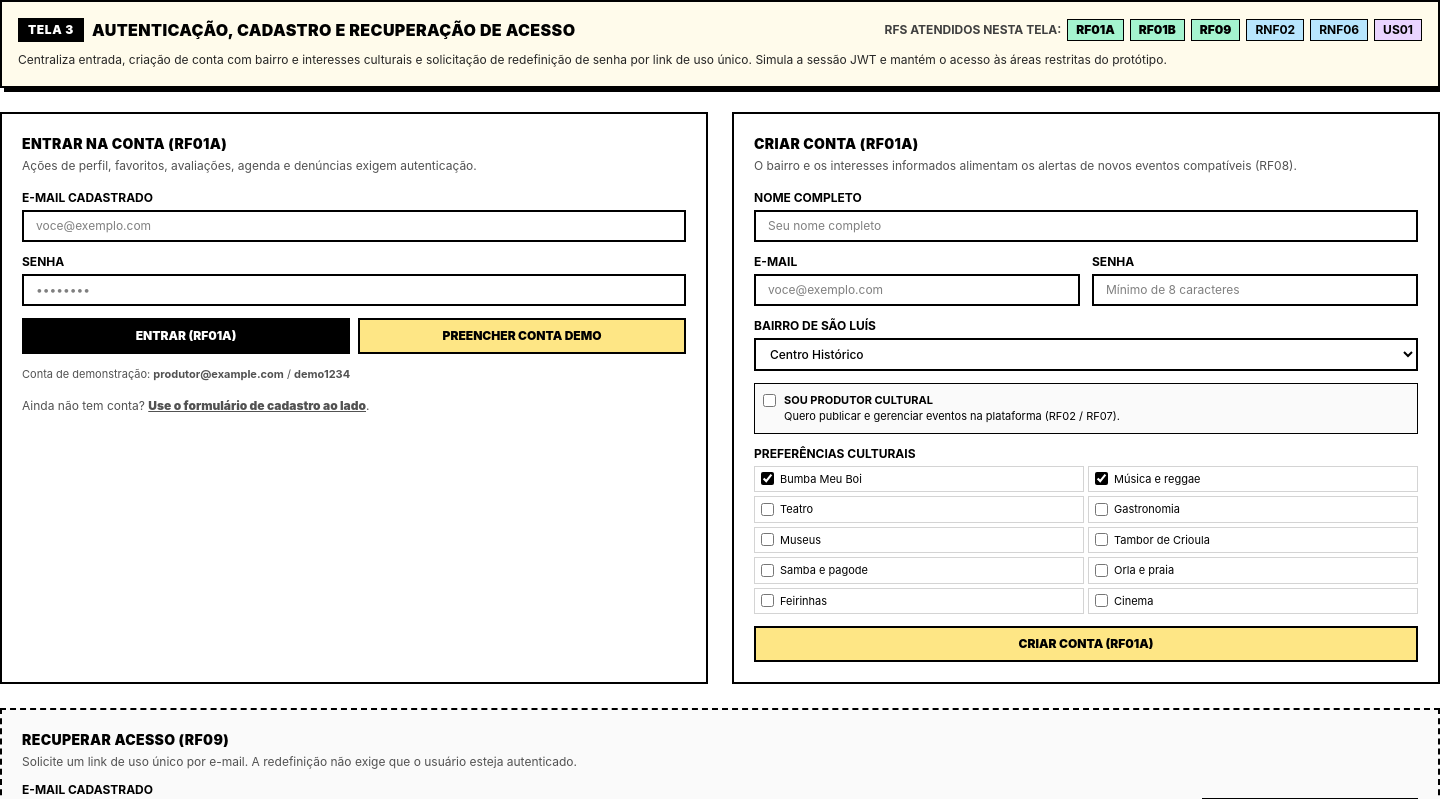
Test: LoginPage › preenche a conta de demonstração
This screenshot has width=1440, height=799.
What coordinates should you click on to do the following:
click the button "Preencher conta demo"
I would click on:
 (522, 336)
Its box is [358,318,686,354].
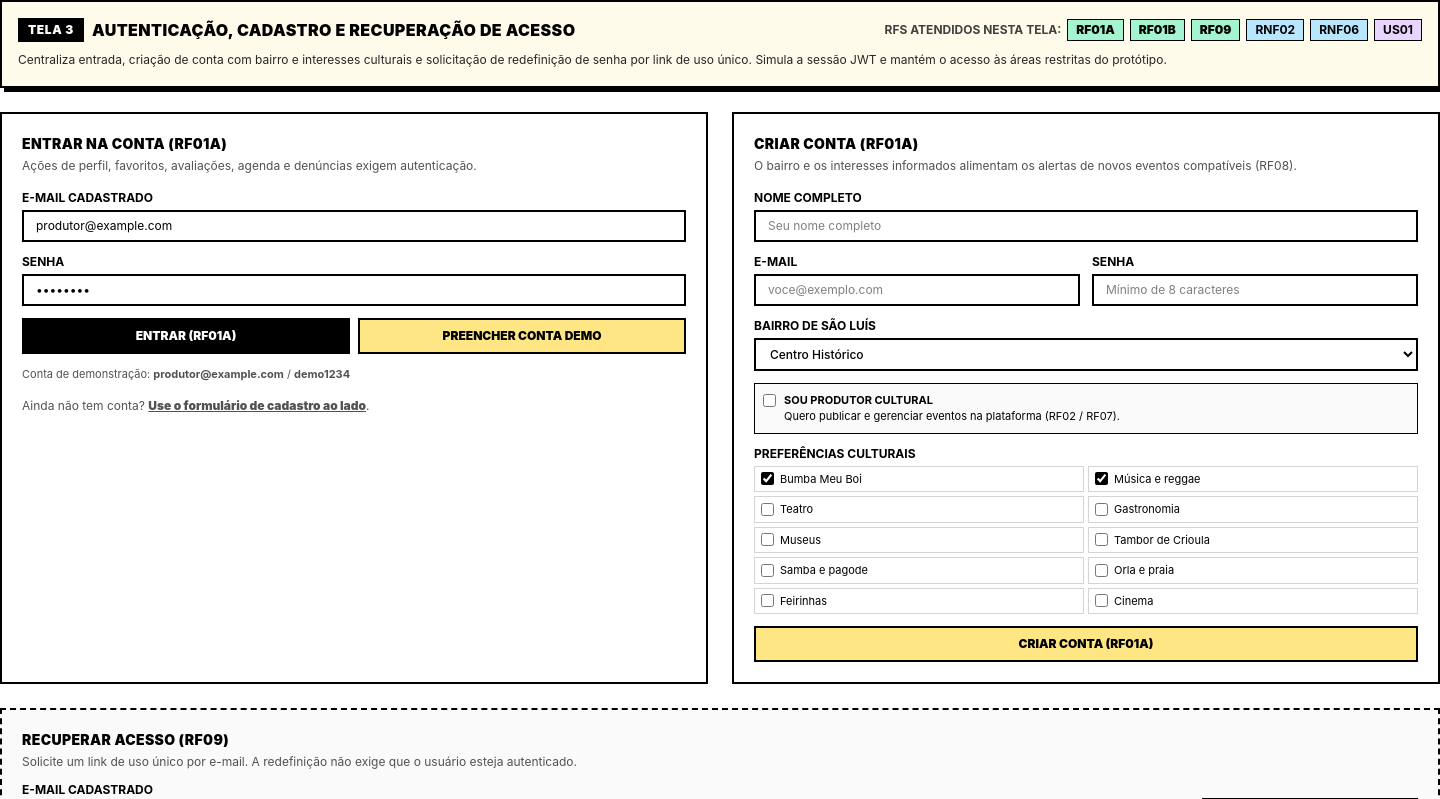
Expected: the field labelled "E-mail cadastrado" below "Entrar na conta (RF01a)" holds "produtor@example.com", [22,210,686,242]
Expected: the password field labelled "Senha" below "Entrar na conta (RF01a)" holds "demo1234", [22,274,686,306]
